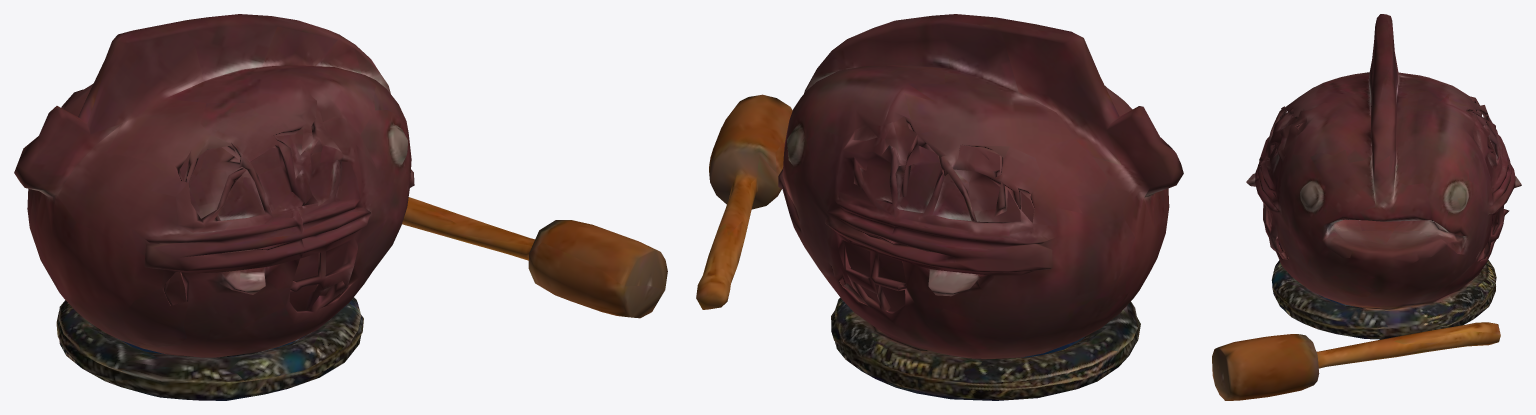
File: muyu.glb
3 renders of one model, left to right at view 1: azimuth 30°, elevation 25°; view 2: azimuth 150°, elevation 25°; view 3: azimuth 270°, elevation 25°, orthographic. The views are drawn at different scales.
Parts seen in each view (by area): view 1: tripo_node_6434623e-dd45-4f87-871f-a19b2750ebd6; view 2: tripo_node_6434623e-dd45-4f87-871f-a19b2750ebd6; view 3: tripo_node_6434623e-dd45-4f87-871f-a19b2750ebd6.
Boxes of the visible parts, x1,y1,x2,y2 form: tripo_node_6434623e-dd45-4f87-871f-a19b2750ebd6: (14,14,667,400); tripo_node_6434623e-dd45-4f87-871f-a19b2750ebd6: (696,14,1183,400); tripo_node_6434623e-dd45-4f87-871f-a19b2750ebd6: (1212,14,1521,400).
Bounding box in the file's own units: 1.71 × 1 × 1.11.
Materials: 1 (1 with a texture image).
